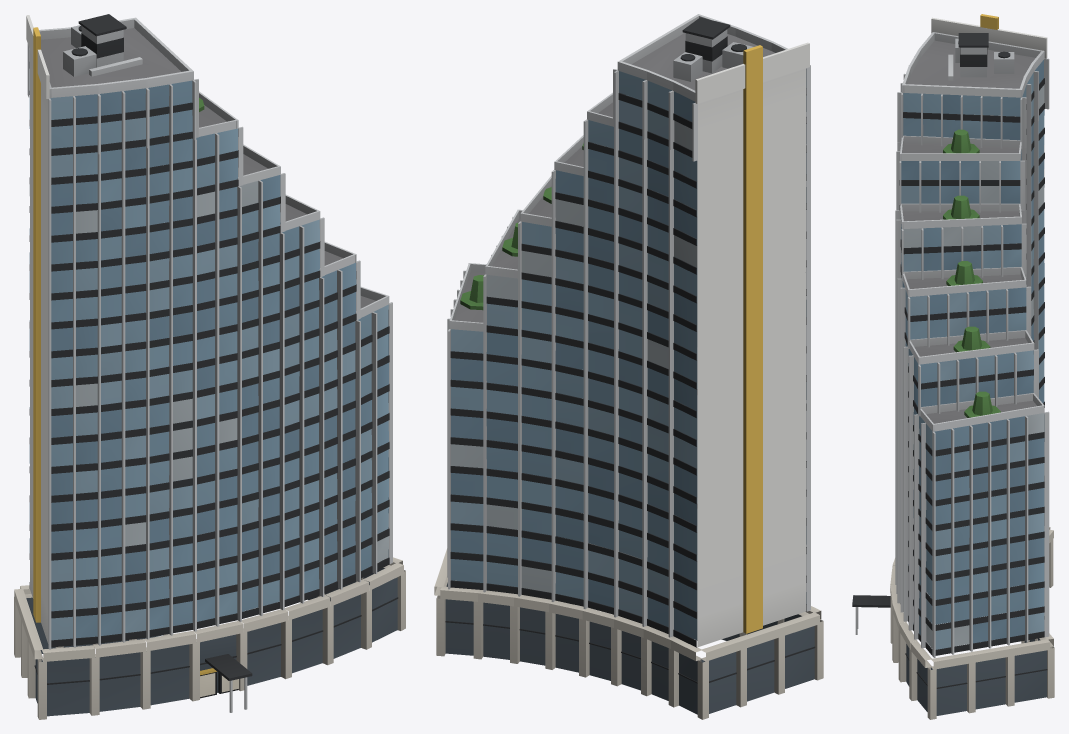
The picture shows the model from 3 angles, left to right: view 1: azimuth 30°, elevation 25°; view 2: azimuth 150°, elevation 25°; view 3: azimuth 270°, elevation 25°; orthographic projection. The views are drawn at different scales.
Visible parts, largest first — view 1: t4; view 2: t4; view 3: t4.
Boxes of the visible parts, x1=… form: t4: x1=14, y1=14, x2=405, y2=719; t4: x1=434, y1=14, x2=823, y2=719; t4: x1=852, y1=14, x2=1054, y2=719.
Size of the model in its own units: 52.16 by 88.21 by 28.72.
